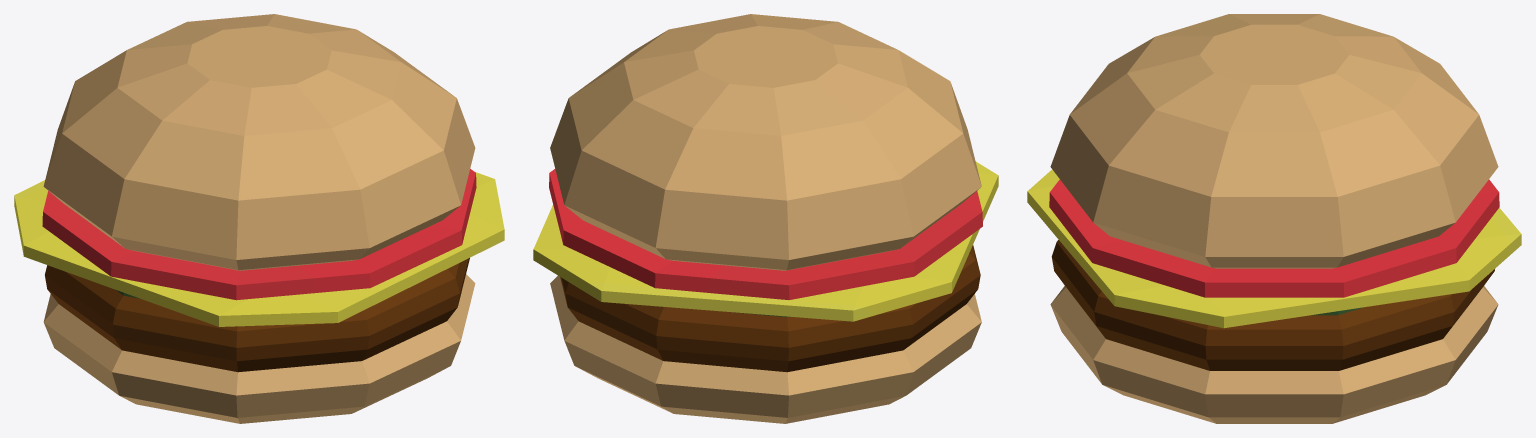
File: quaternius-junk-food-burger.glb
3 renders of one model, left to right at view 1: azimuth 30°, elevation 25°; view 2: azimuth 150°, elevation 25°; view 3: azimuth 270°, elevation 25°, orthographic.
Visible parts, largest first — view 1: Burger; view 2: Burger; view 3: Burger.
Part boxes in pixels (x1=…): Burger: x1=14, y1=14, x2=504, y2=423; Burger: x1=533, y1=14, x2=998, y2=423; Burger: x1=1027, y1=14, x2=1521, y2=423.
Bounding box in the file's own units: 0.6648 × 0.4584 × 0.6648.
Materials: 1 (1 with a texture image).
